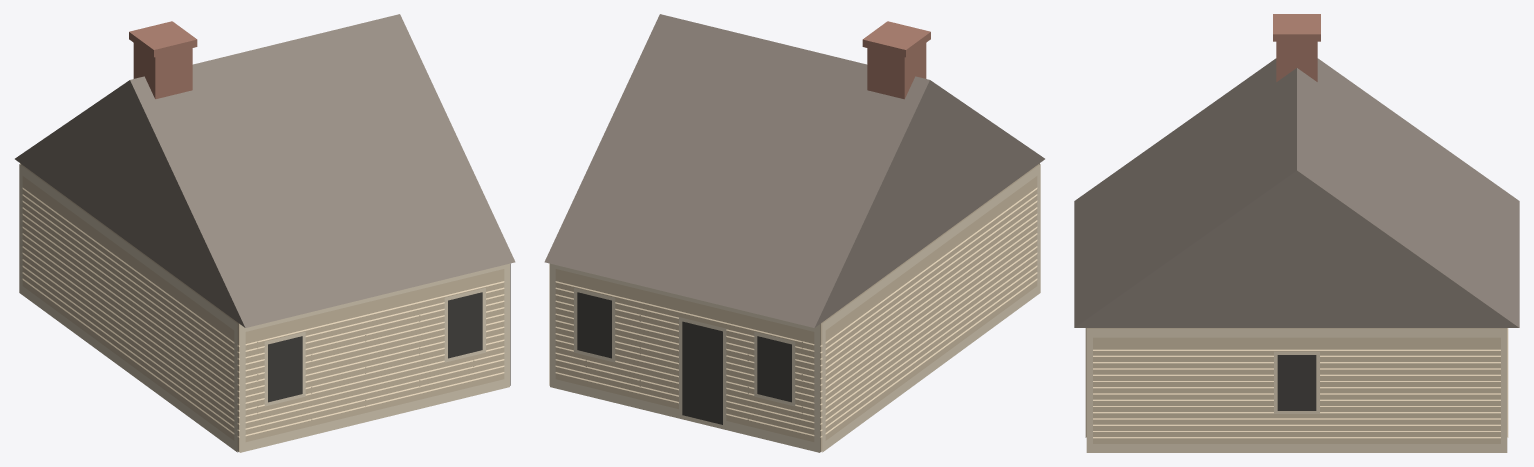
The model's file is recon_1835_west_003__inferred_1835.glb.
3 renders of one model, left to right at view 1: azimuth 30°, elevation 25°; view 2: azimuth 150°, elevation 25°; view 3: azimuth 270°, elevation 25°, orthographic. The views are drawn at different scales.
Visible parts, largest first — view 1: recon_1835_west_003__inferred_1835; view 2: recon_1835_west_003__inferred_1835; view 3: recon_1835_west_003__inferred_1835.
Boxes of the visible parts, x1,y1,x2,y2 form: recon_1835_west_003__inferred_1835: (15,14,515,452); recon_1835_west_003__inferred_1835: (544,14,1044,452); recon_1835_west_003__inferred_1835: (1074,14,1519,452).
Size of the model in its own units: 6.18 by 7.09 by 9.03.
